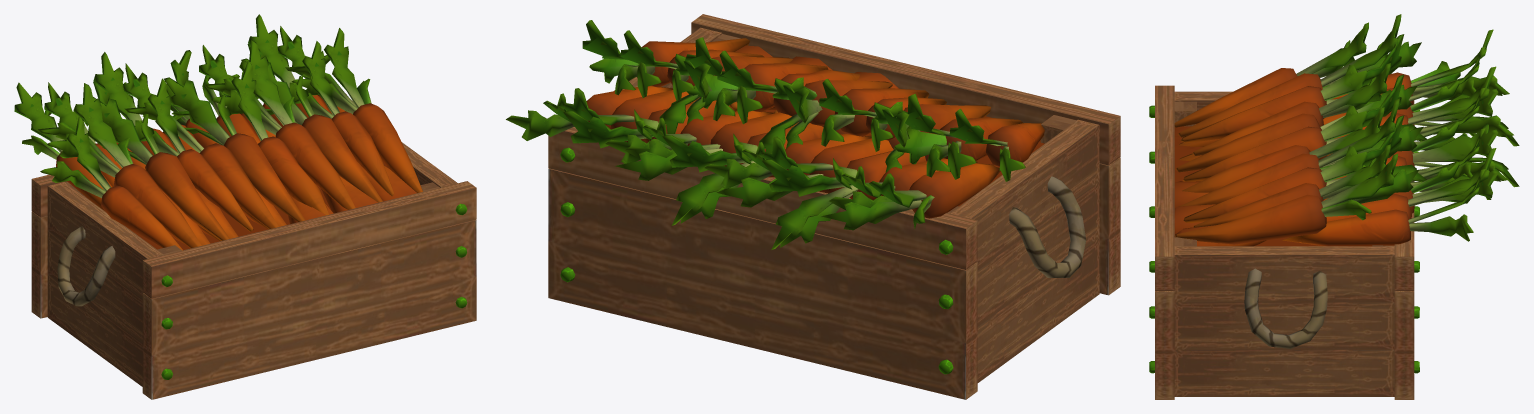
File: farmcrate_carrot.gltf
The picture shows the model from 3 angles, left to right: view 1: azimuth 30°, elevation 25°; view 2: azimuth 150°, elevation 25°; view 3: azimuth 270°, elevation 25°; orthographic projection. The views are drawn at different scales.
Parts seen in each view (by area): view 1: FarmCrate_Carrot; view 2: FarmCrate_Carrot; view 3: FarmCrate_Carrot.
Boxes of the visible parts, x1=… form: FarmCrate_Carrot: x1=14, y1=14, x2=476, y2=399; FarmCrate_Carrot: x1=506, y1=14, x2=1120, y2=399; FarmCrate_Carrot: x1=1149, y1=14, x2=1519, y2=399.
Size of the model in its own units: 0.7138 by 0.4113 by 0.567.
Materials: 3 (3 with a texture image).
